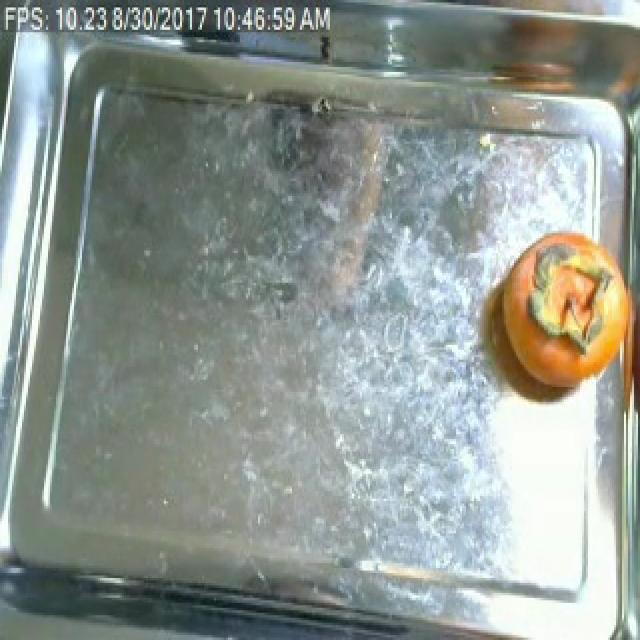Fruit: (498, 226, 634, 392)
